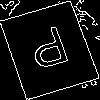P: (24, 24, 76, 79)
